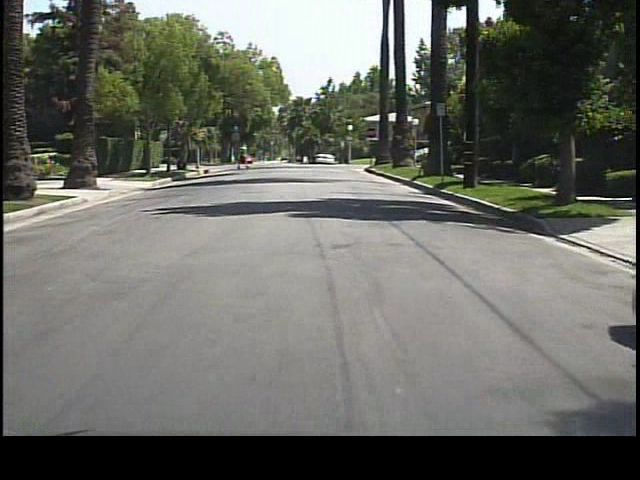person: (236, 139, 252, 171)
